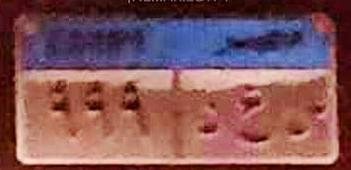9: (119, 75, 147, 137), (51, 73, 77, 138), (82, 78, 110, 134)
ain: (231, 89, 270, 150)
daal: (196, 98, 222, 134)
seen: (282, 92, 333, 143)
